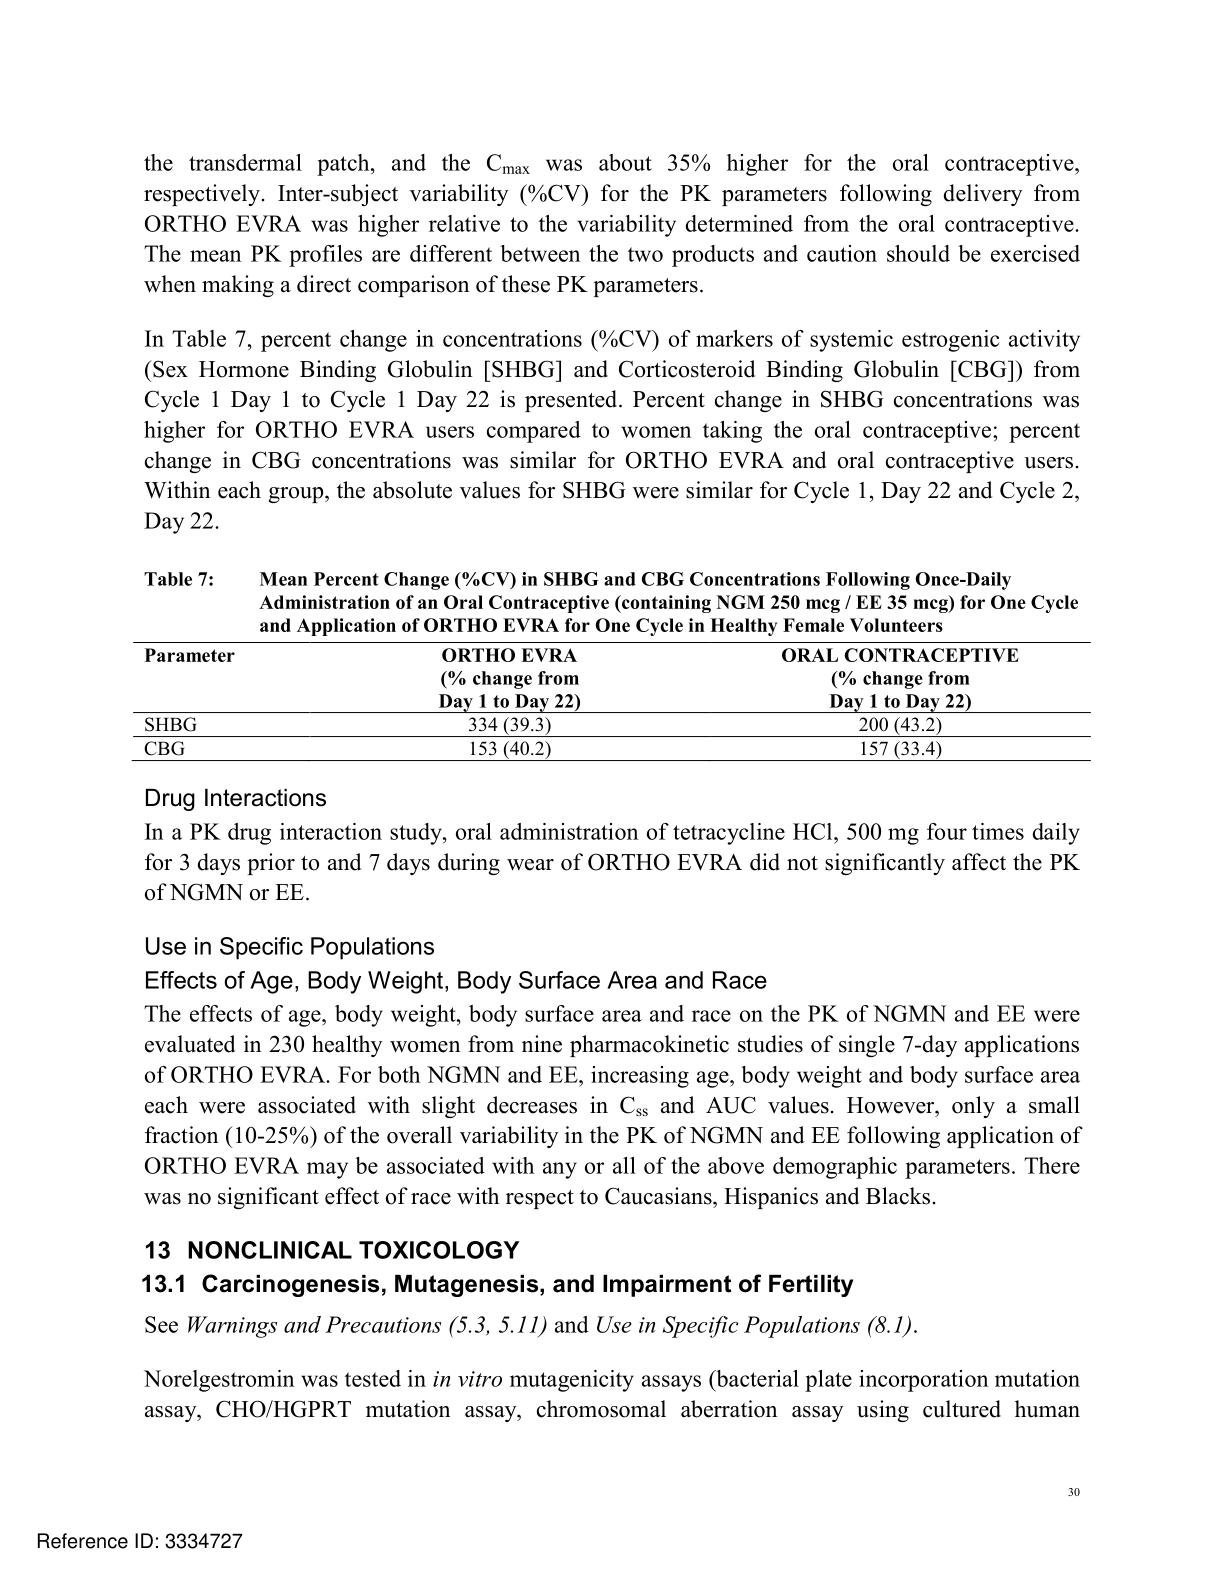partial_lined: (132, 642, 1092, 762)
